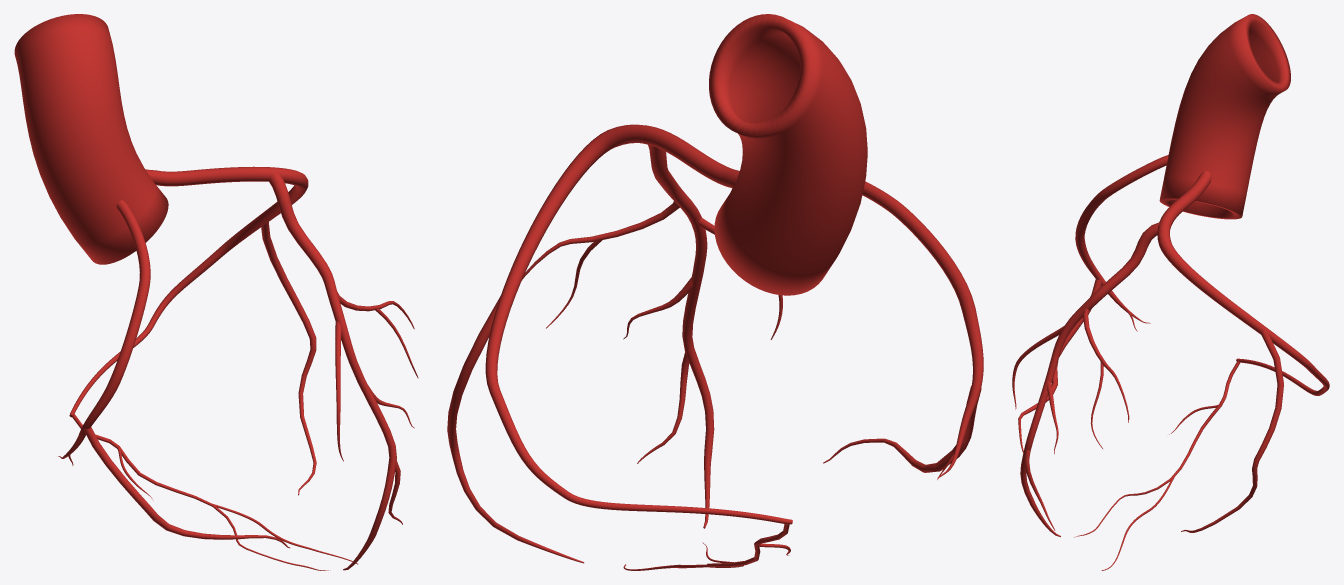
File: leftheart.gltf
3 views of the same model, side by side, from view 1: azimuth 30°, elevation 25°; view 2: azimuth 150°, elevation 25°; view 3: azimuth 270°, elevation 25° (orthographic). The views are drawn at different scales.
Visible parts, largest first — view 1: aorta_new; view 2: aorta_new; view 3: aorta_new.
Part boxes in pixels (box(x1,y1,x2,y2)): aorta_new: box(14, 14, 418, 570); aorta_new: box(447, 14, 983, 570); aorta_new: box(1012, 14, 1329, 570).
Size of the model in its own units: 1.98 by 2.93 by 1.81.
